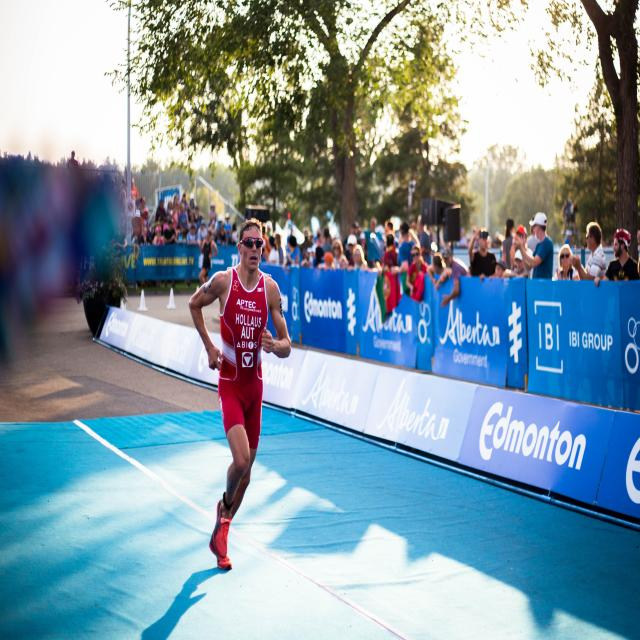running: (188, 219, 295, 570)
